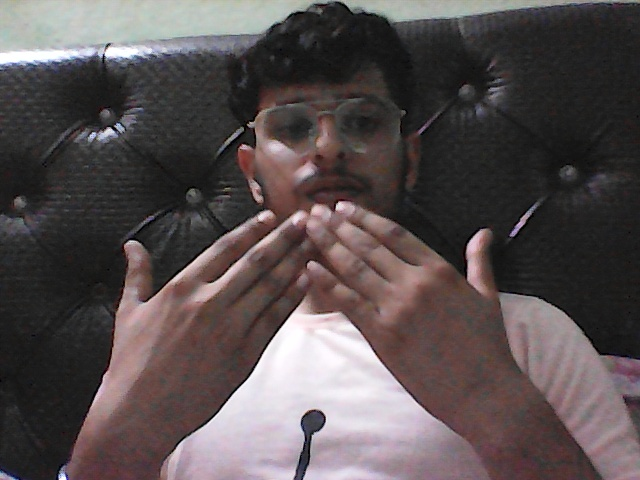thankyou: (94, 194, 515, 442)
